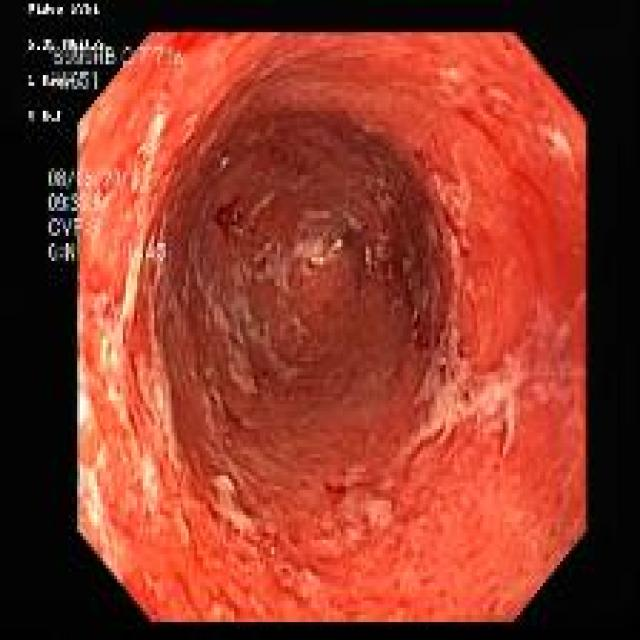ulcerative-colitis: (78, 31, 586, 623)
